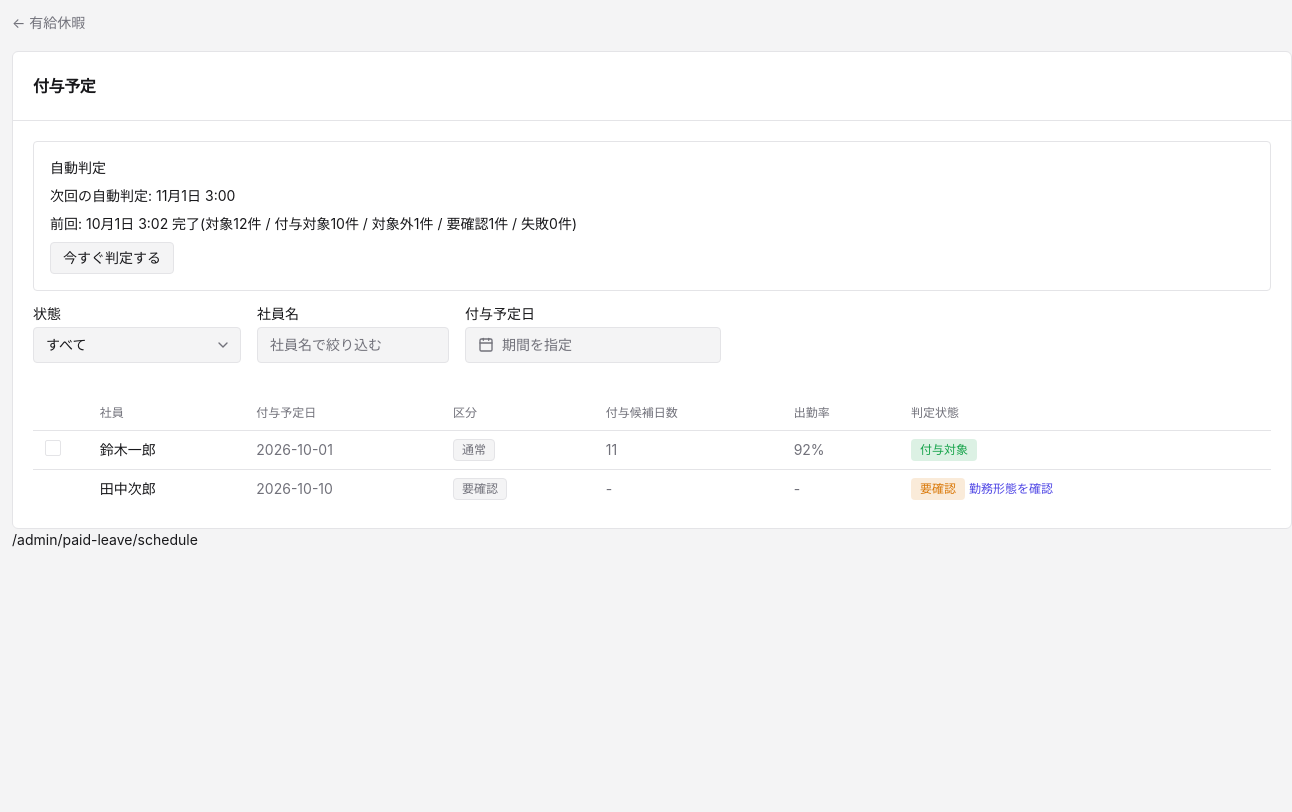
Scenario: PaidLeaveSchedulePage › clears the selection when the filter changes
The width and height of the screenshot is (1292, 812).
Expected: the text "鈴木一郎" is shown, left=88, top=431, right=244, bottom=470
Click the checkbox named "鈴木一郎を選択" at (53,448), box left=45, top=440, right=61, bottom=456
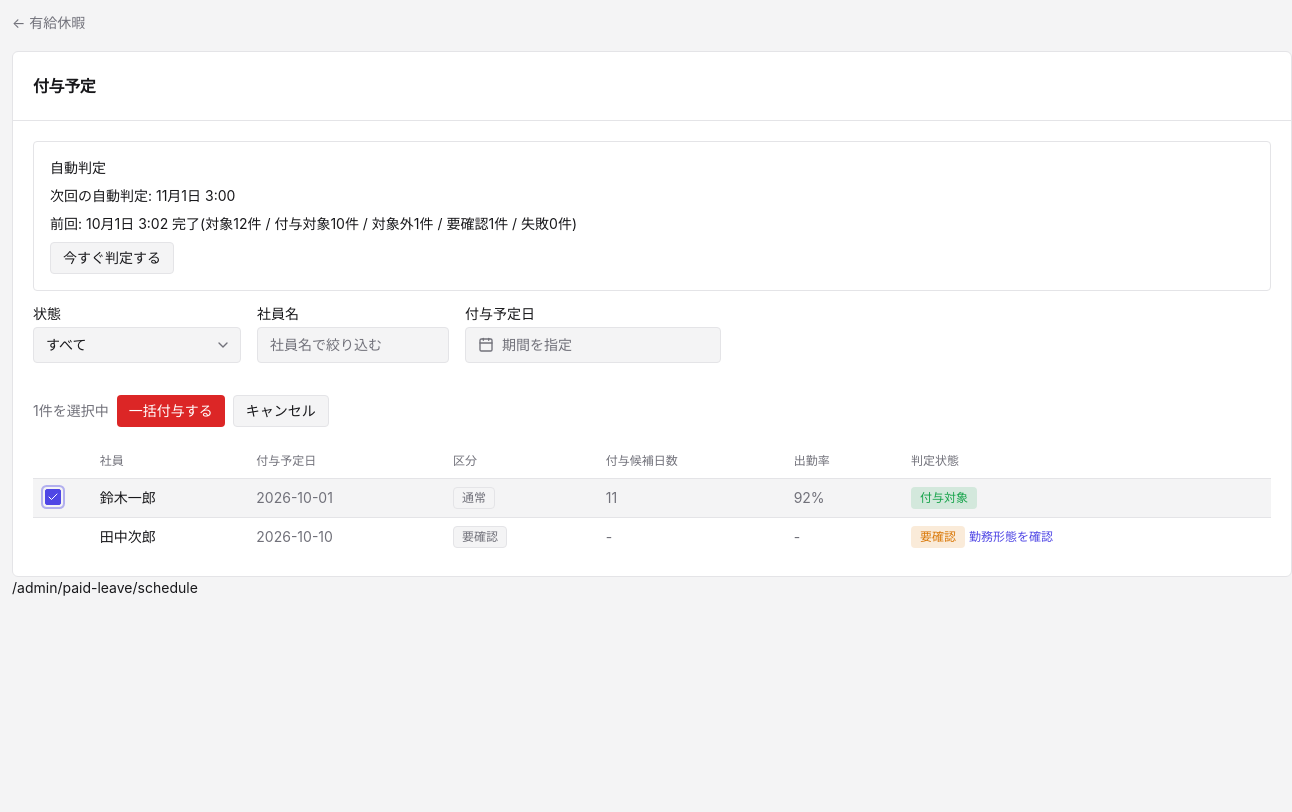
Result: the text "1件を選択中" is shown at left=33, top=401, right=109, bottom=421
Select "付与対象" in the dropdown labelled "状態" at (137,345), box left=33, top=327, right=241, bottom=363
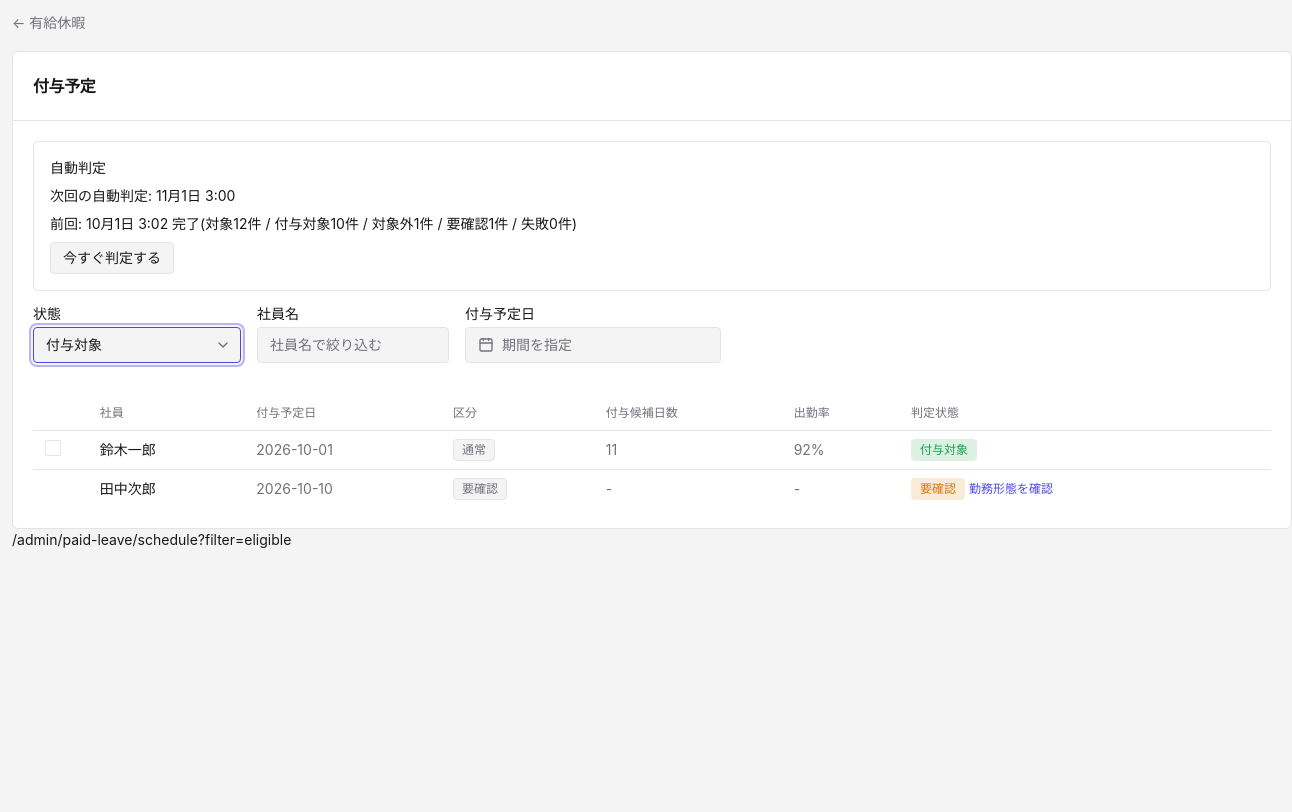
Result: the text "1件を選択中" is gone
